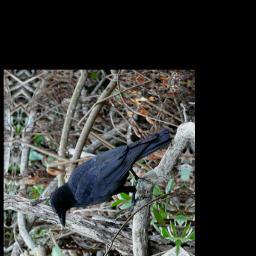Crow: (47, 118, 177, 236)
